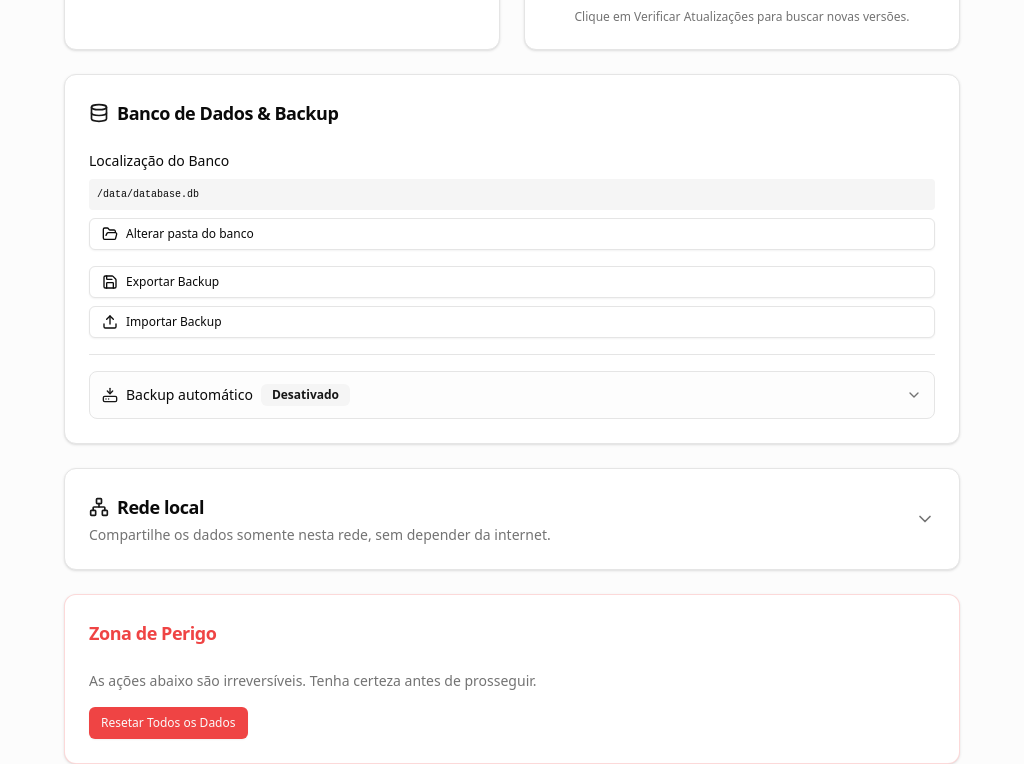
Test: Settings automatic backup › warns only when the interval exceeds 48 hours
(page scrolled)
Expected: the text "Desativado" is shown, 261,384 -> 350,406
Click the heading "Backup automático Desativado".
click(189, 394)  # box 102,384 -> 922,406
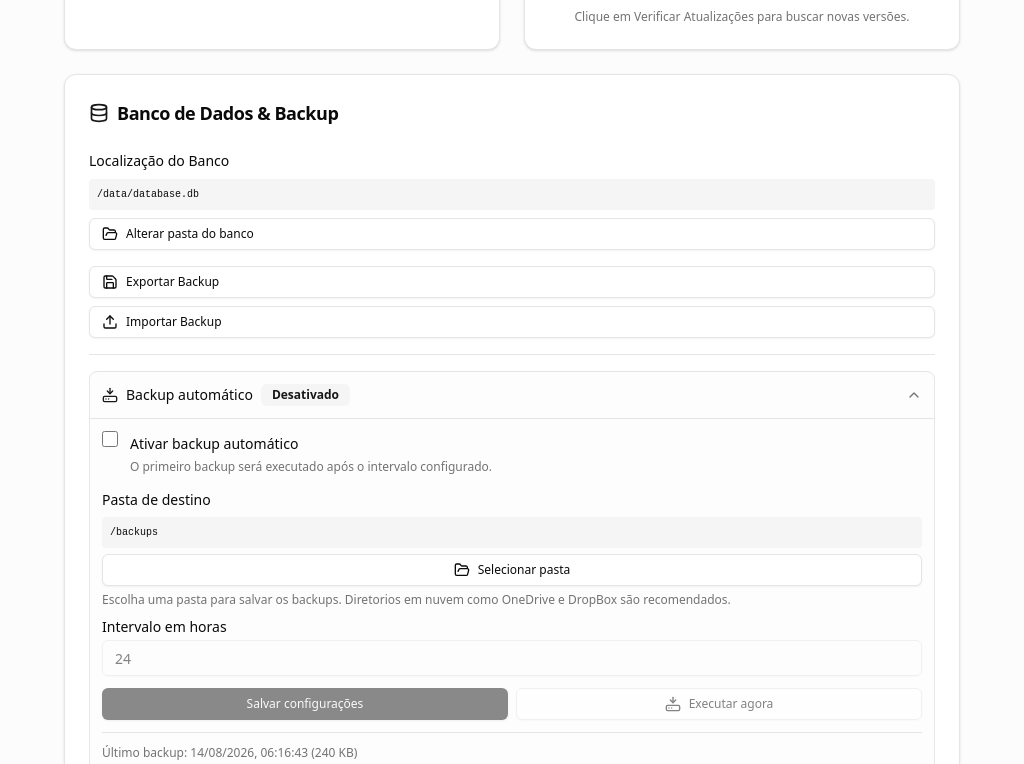
Click the checkbox labelled "Ativar backup automático".
click(110, 439)  # box 102,431 -> 118,447
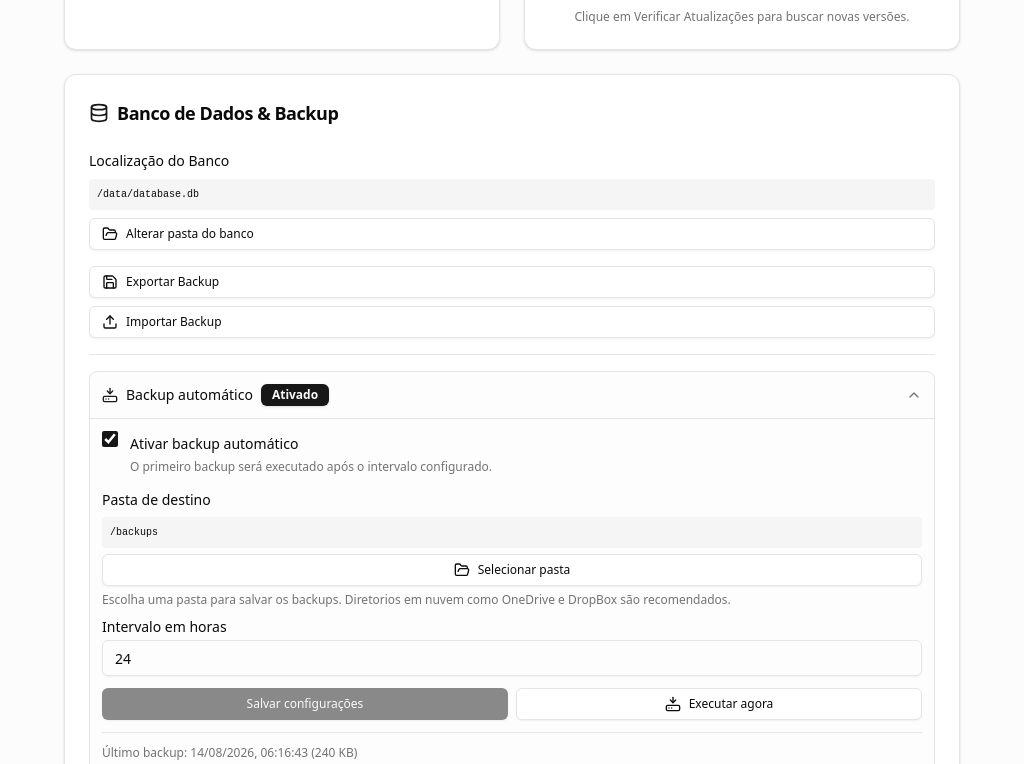
Replace the text in the number field labelled "Intervalo em horas" with "48" at (512, 658), box 102,640 -> 922,676
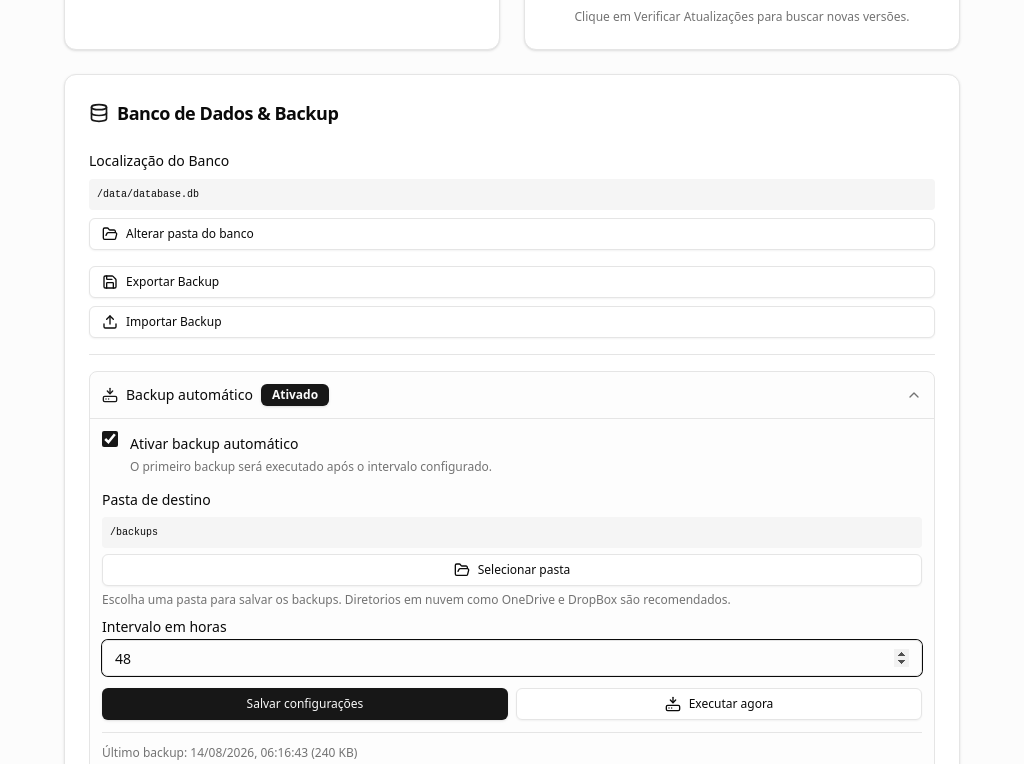
Expected: the text "Intervalos acima de 48 horas" is not shown
Replace the text in the number field labelled "Intervalo em horas" with "49" at (512, 658), box 102,640 -> 922,676
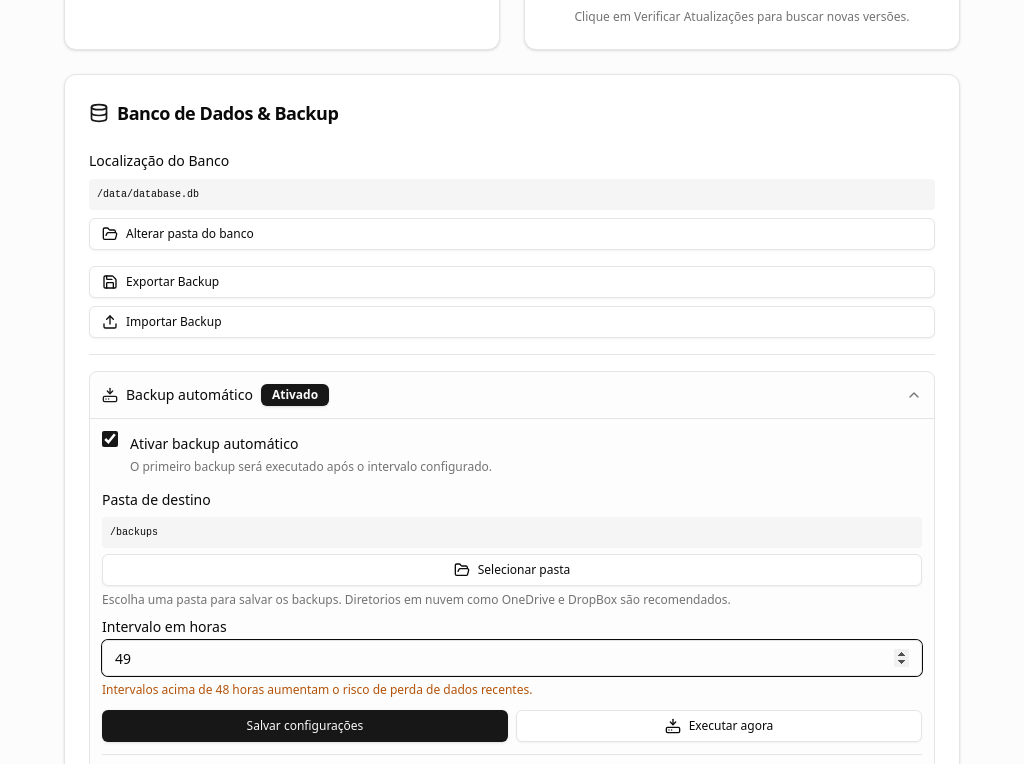
Expected: the text "Intervalos acima de 48 horas" is shown, 102,681 -> 532,698
